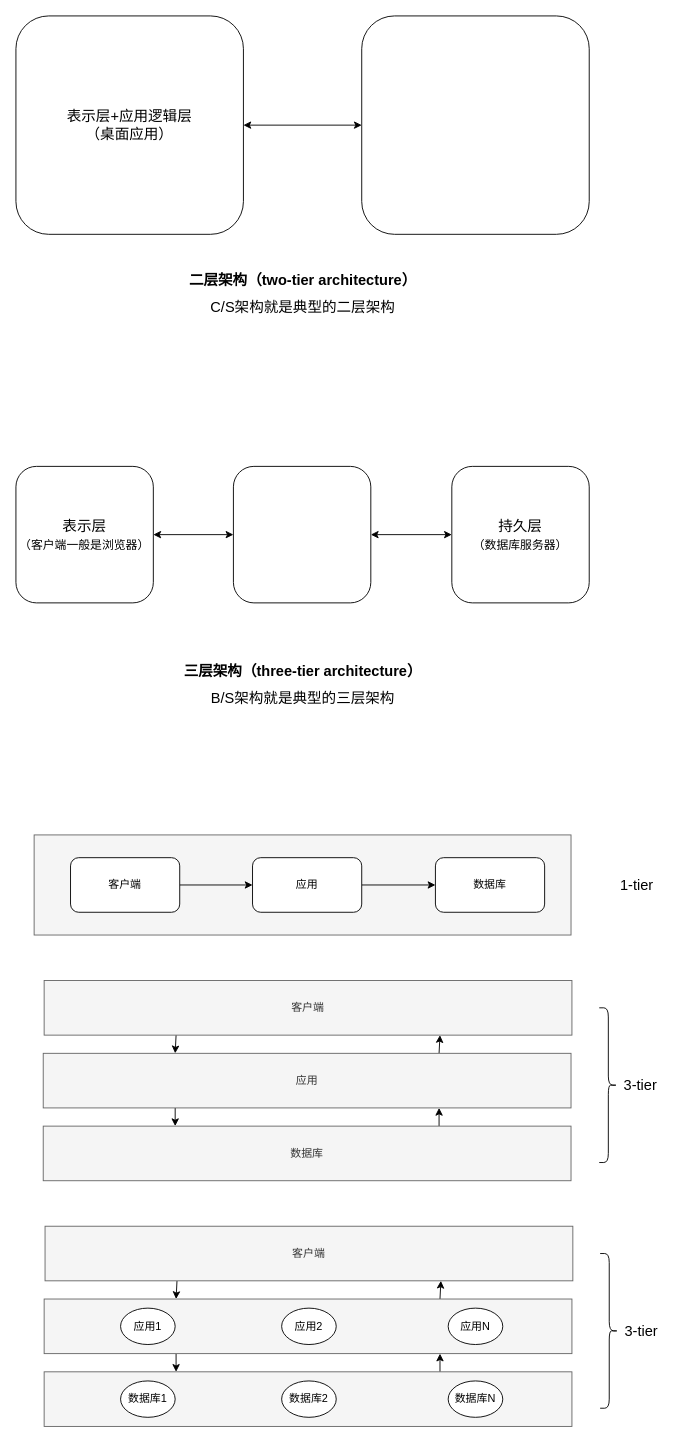
Image size: 680x1442. Some labels were removed from this diagram. The shapes that lost their labels are listed below. From the top down, each one's box as (x1, y1, x2, y2) in pixels, then its label:
(361, 15, 589, 234): 持久层 （数据库）
(233, 465, 371, 603): 应用逻辑层 （应用服务器）
